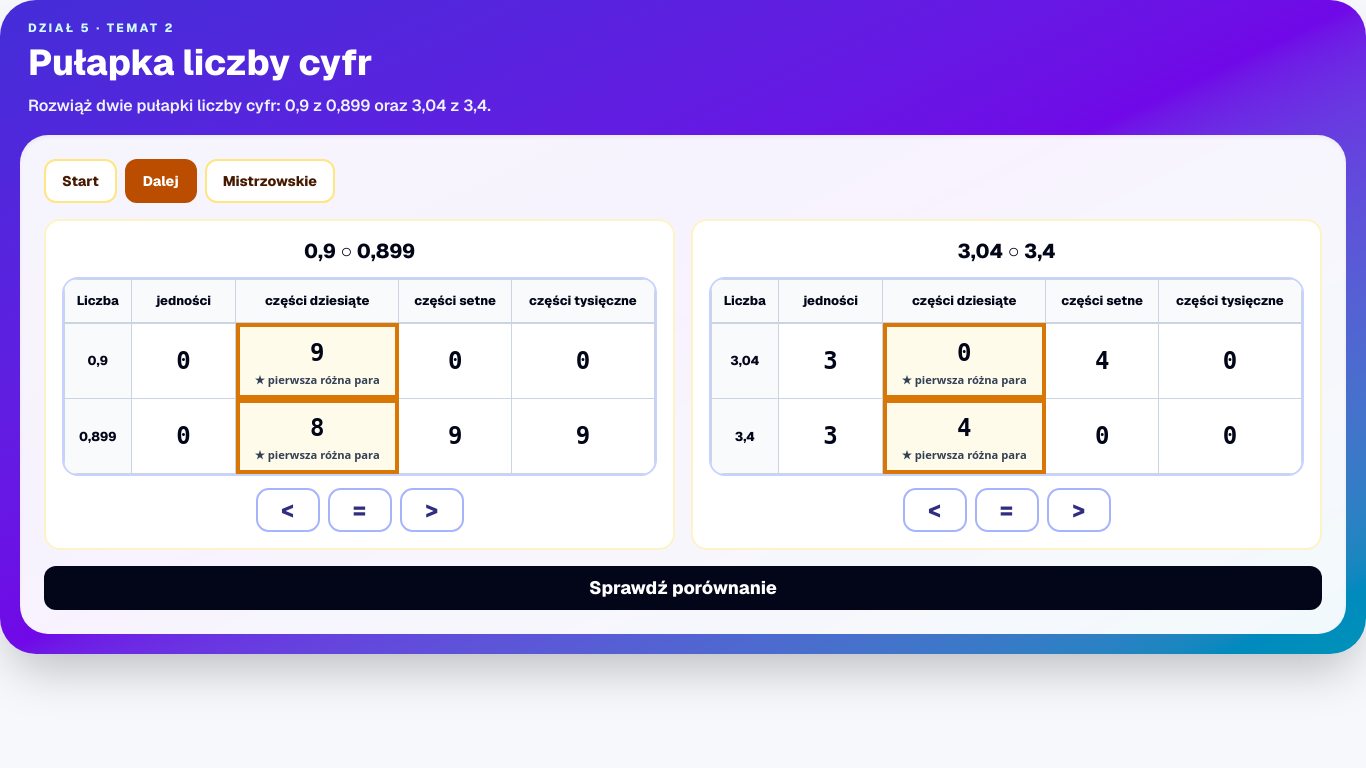
Scenario: DecimalComparisonLab przez lokalny adapter decimal-notation-l1 › rozwiązuje obie pułapki liczby cyfr
This screenshot has width=1366, height=768.
Click the button named "0,9 i 0,899: znak większości". click: (432, 510)
box: [400,488,464,532]
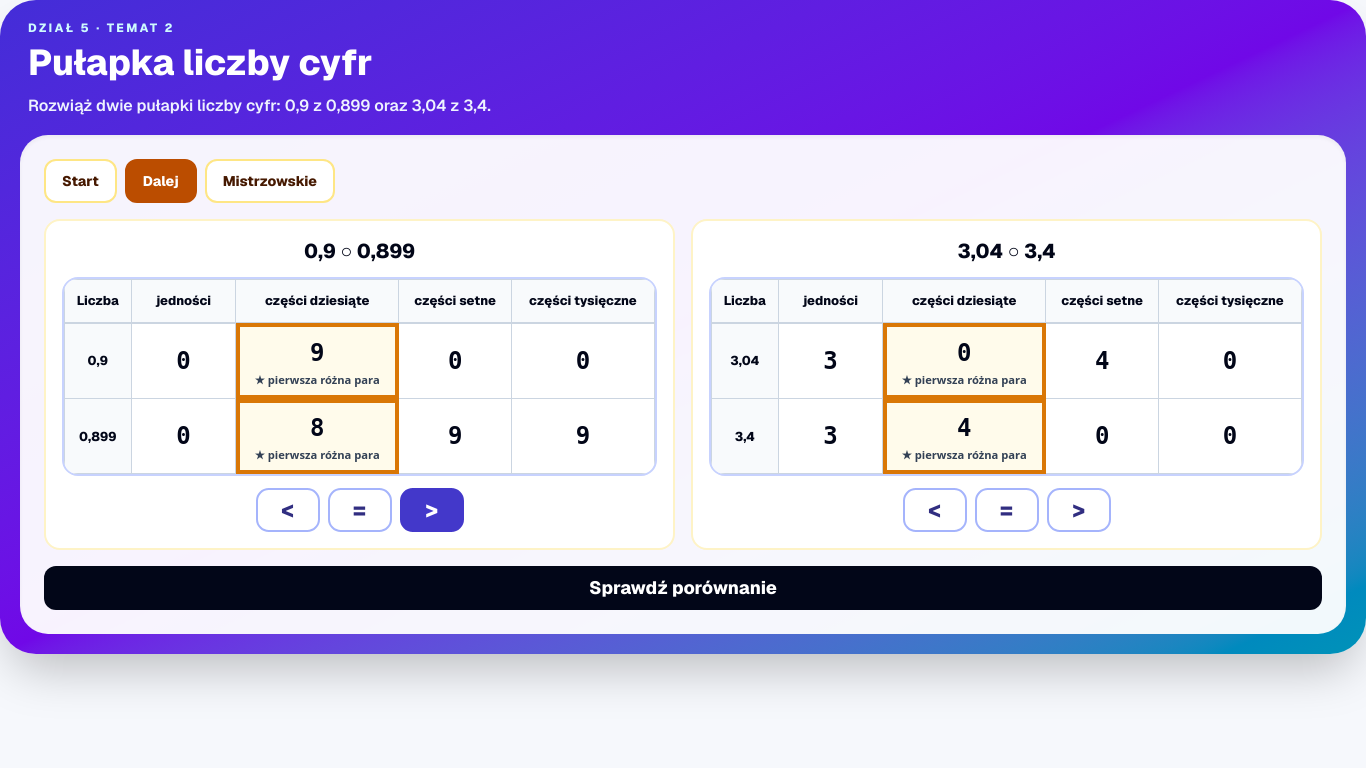
Click the button named "3,04 i 3,4: znak mniejszości". click: (934, 510)
box: [902,488,966,532]
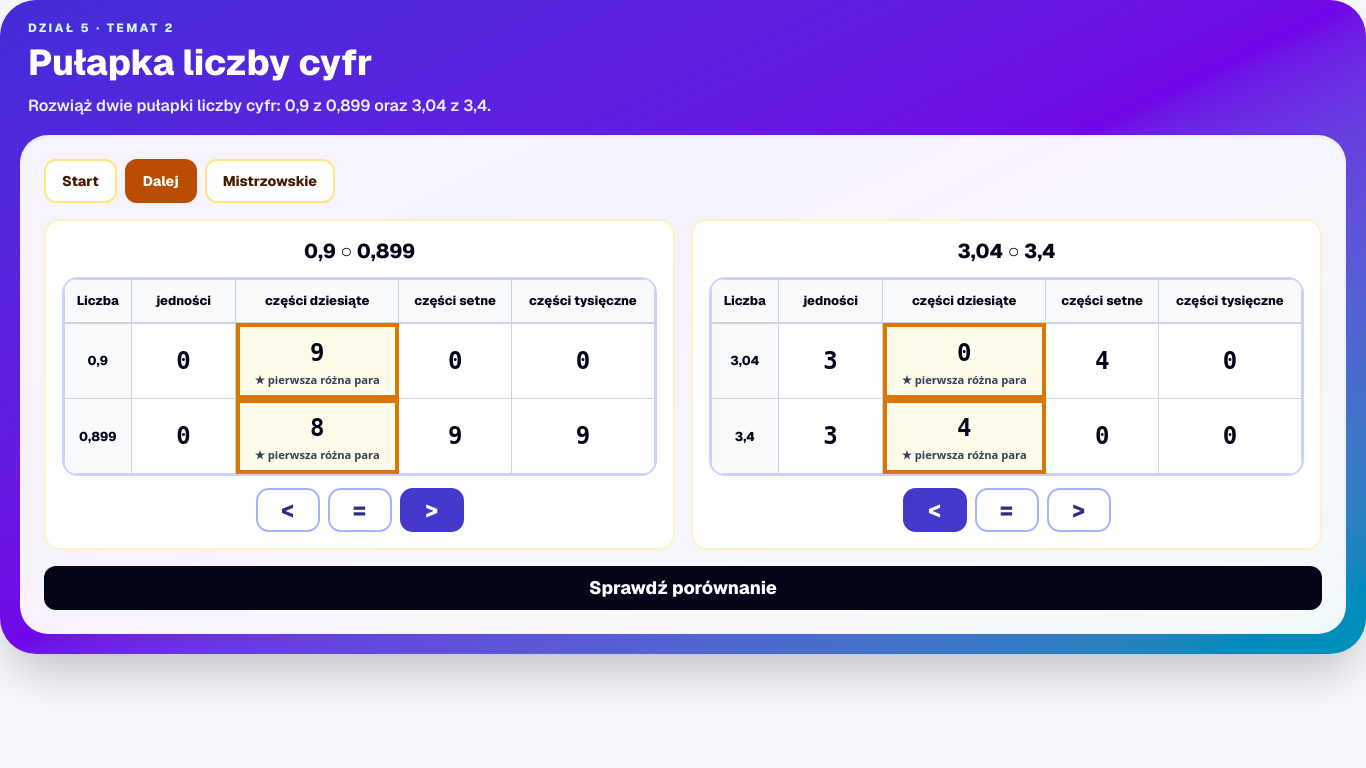
Click the button "Sprawdź porównanie". click: (683, 588)
box: [44,566,1322,610]
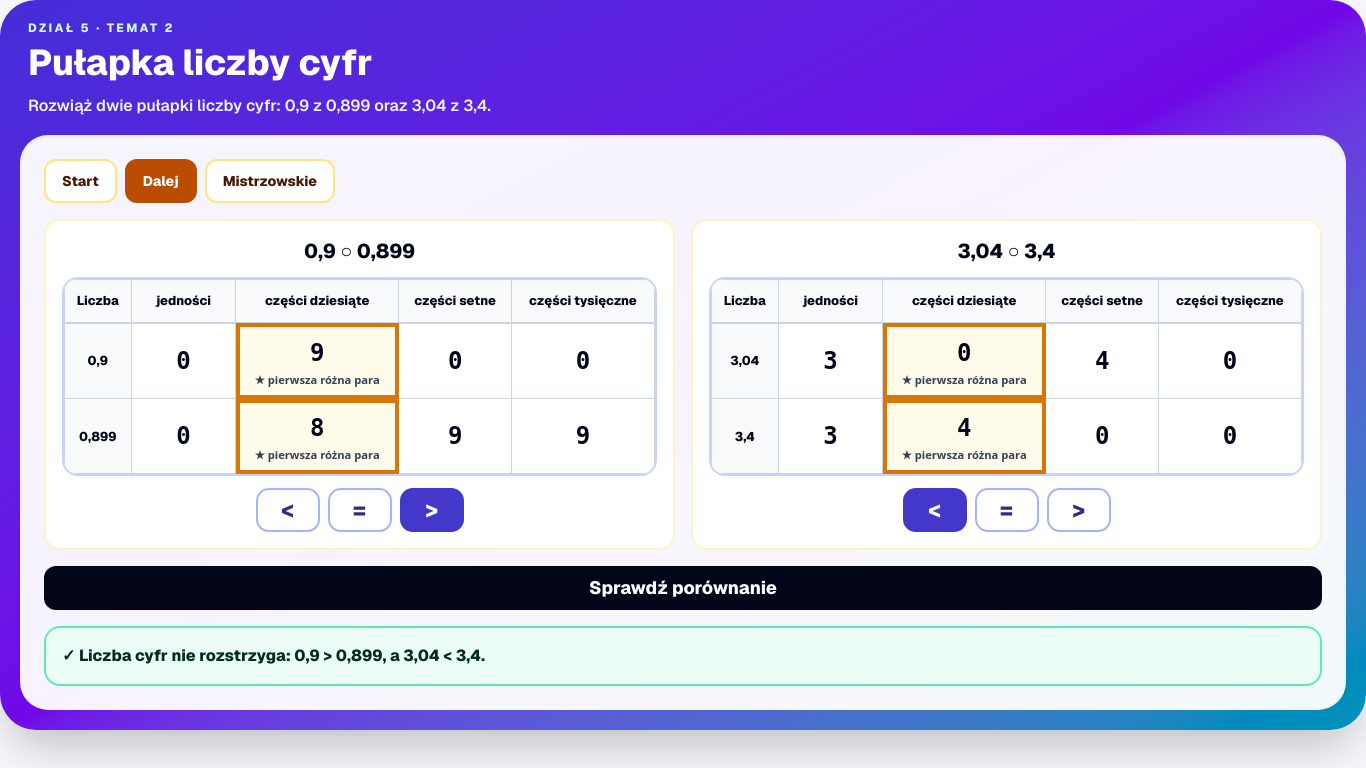
Now the message shows "0,9 > 0,899, a 3,04 < 3,4", box [79,645,485,666]
